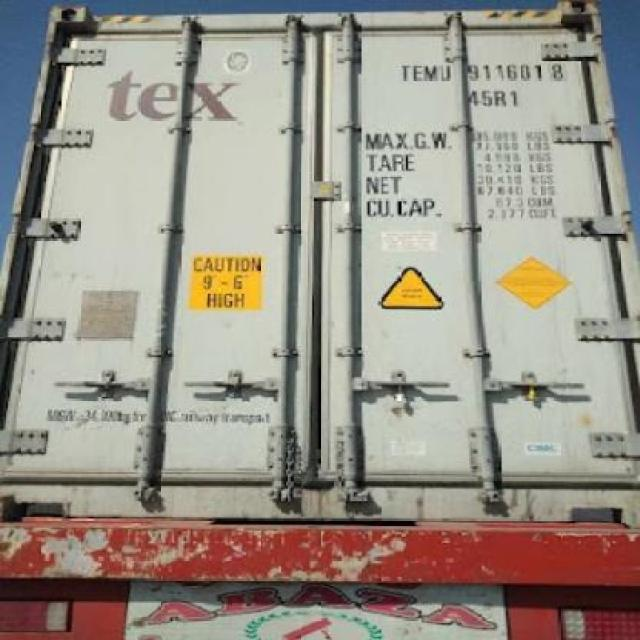ISO: (471, 88, 521, 106)
container_number: (399, 63, 564, 82)
